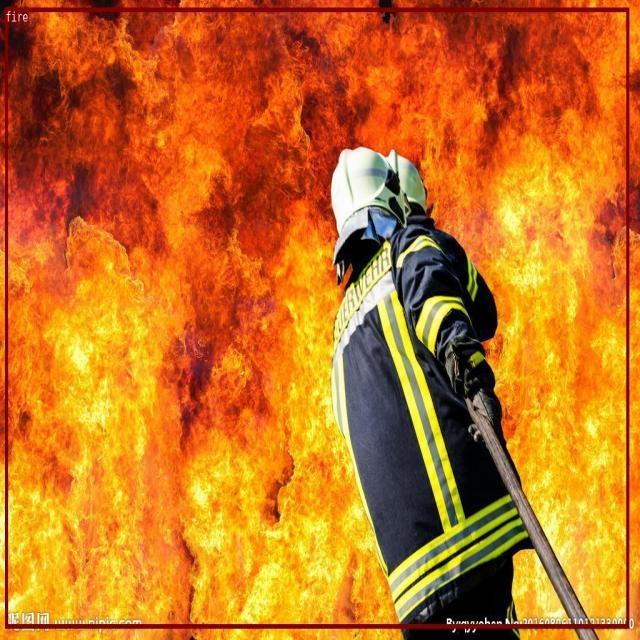fire: (5, 7, 629, 627)
